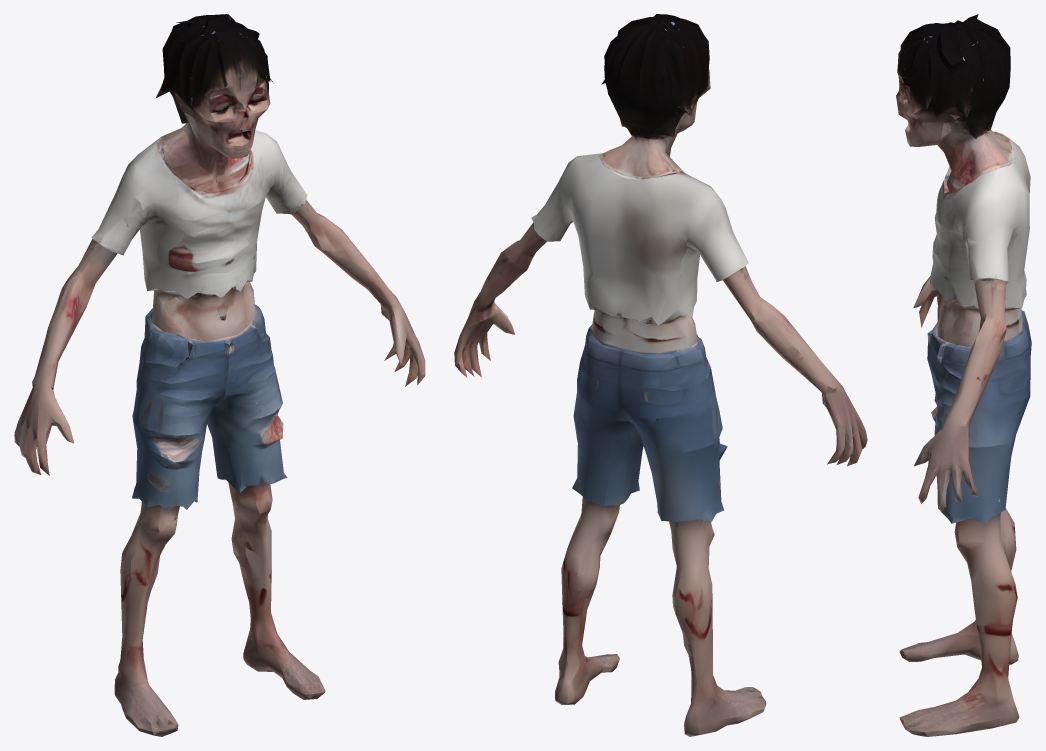
Rendered from kid_src.glb.
The picture shows the model from 3 angles, left to right: view 1: azimuth 30°, elevation 25°; view 2: azimuth 150°, elevation 25°; view 3: azimuth 270°, elevation 25°; orthographic projection.
Parts seen in each view (by area): view 1: base_0; view 2: base_0; view 3: base_0.
Boxes of the visible parts, left/top/right/bottom form: base_0: left=14, top=14, right=425, bottom=736; base_0: left=454, top=14, right=867, bottom=736; base_0: left=896, top=14, right=1031, bottom=736.
Bounding box in the file's own units: 0.9285 × 1.54 × 0.2802.
Materials: 1 (1 with a texture image).
